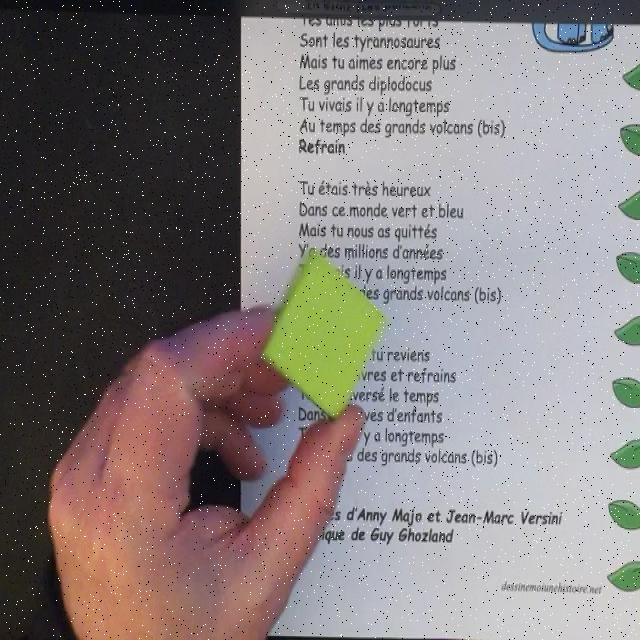square: (262, 255, 385, 420)
